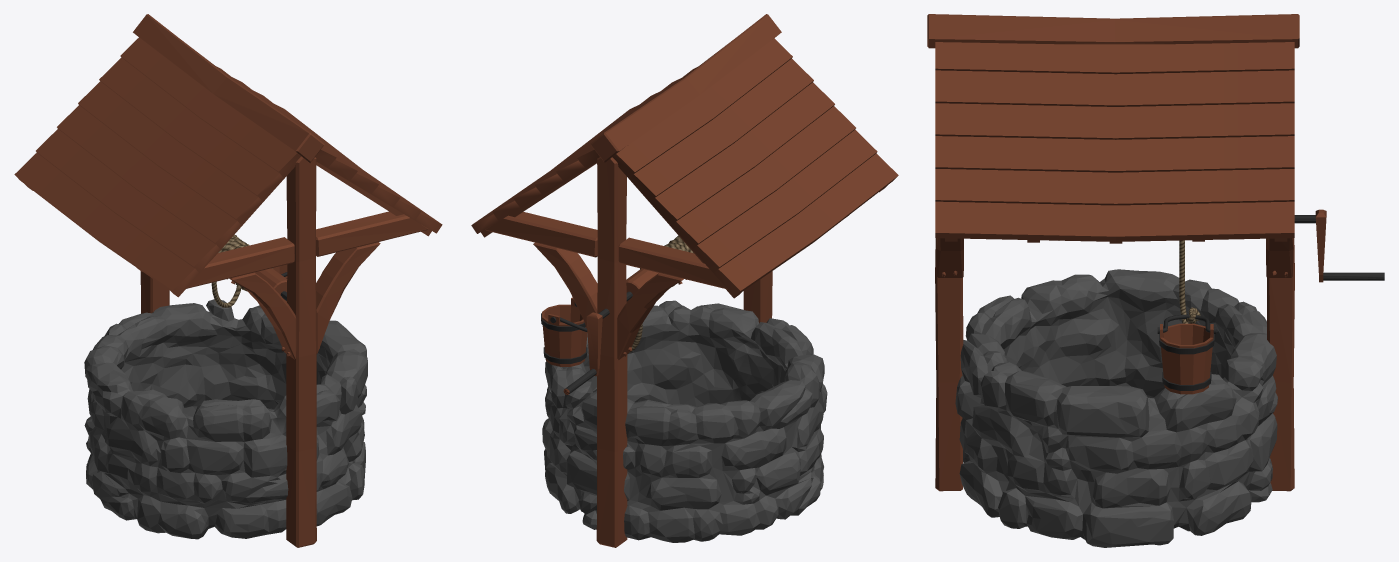
The model's file is puits.glb.
3 renders of one model, left to right at view 1: azimuth 30°, elevation 25°; view 2: azimuth 150°, elevation 25°; view 3: azimuth 270°, elevation 25°, orthographic. The views are drawn at different scales.
Parts seen in each view (by area): view 1: Well_LP_Well_0, Well_LP_Roof_0, Well_LP_rope_0; view 2: Well_LP_Well_0, Well_LP_Roof_0, Well_LP_Bucket_0; view 3: Well_LP_Well_0, Well_LP_Roof_0, Well_LP_Bucket_0, Well_LP_rope_0.
Boxes of the visible parts, bbox=[...] form: Well_LP_Well_0: bbox=[16, 14, 431, 547]; Well_LP_Roof_0: bbox=[14, 37, 442, 296]; Well_LP_rope_0: bbox=[211, 235, 273, 307]; Well_LP_Well_0: bbox=[481, 14, 897, 547]; Well_LP_Roof_0: bbox=[471, 38, 898, 296]; Well_LP_Bucket_0: bbox=[541, 297, 587, 366]; Well_LP_Well_0: bbox=[927, 14, 1384, 547]; Well_LP_Roof_0: bbox=[935, 42, 1294, 236]; Well_LP_Bucket_0: bbox=[1157, 314, 1215, 394]; Well_LP_rope_0: bbox=[1179, 240, 1200, 323].
Size of the model in its own units: 2.82 by 4.16 by 3.65.
4 materials, 1 textured.
